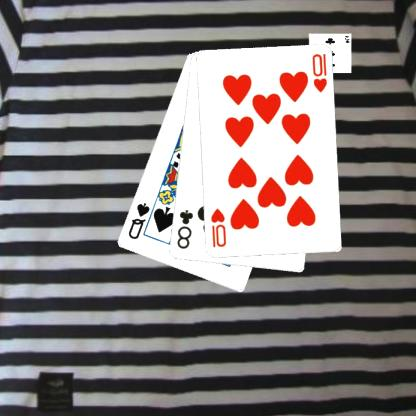10H: (209, 206, 229, 249), (310, 52, 330, 94)
8C: (176, 208, 196, 250)
QS: (127, 200, 152, 241)
